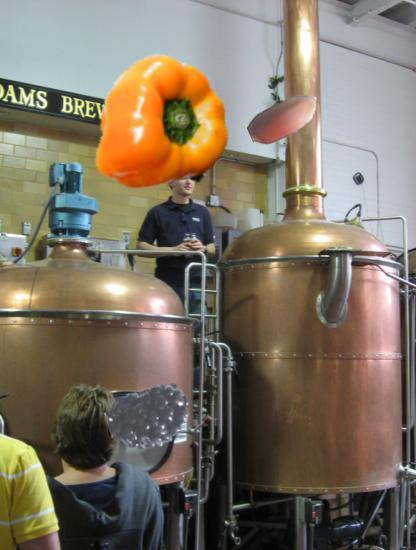Hazelnut: (247, 82, 323, 158)
Mulberry: (108, 375, 195, 462)
Pepper: (86, 56, 233, 203)
